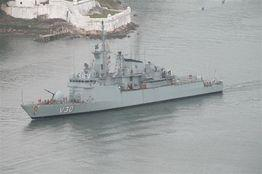warship: (18, 15, 226, 119)
